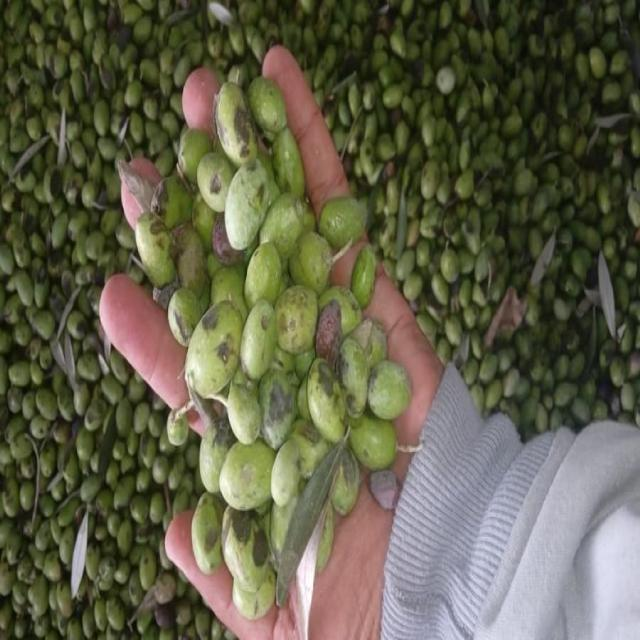Olive Fruit Fly: (186, 302, 242, 398), (224, 159, 273, 250), (222, 506, 270, 592), (215, 82, 257, 167), (307, 359, 346, 442), (134, 212, 175, 286), (275, 285, 317, 354), (259, 369, 295, 448), (335, 336, 368, 420), (240, 300, 275, 379), (191, 493, 221, 573), (197, 152, 234, 211)
